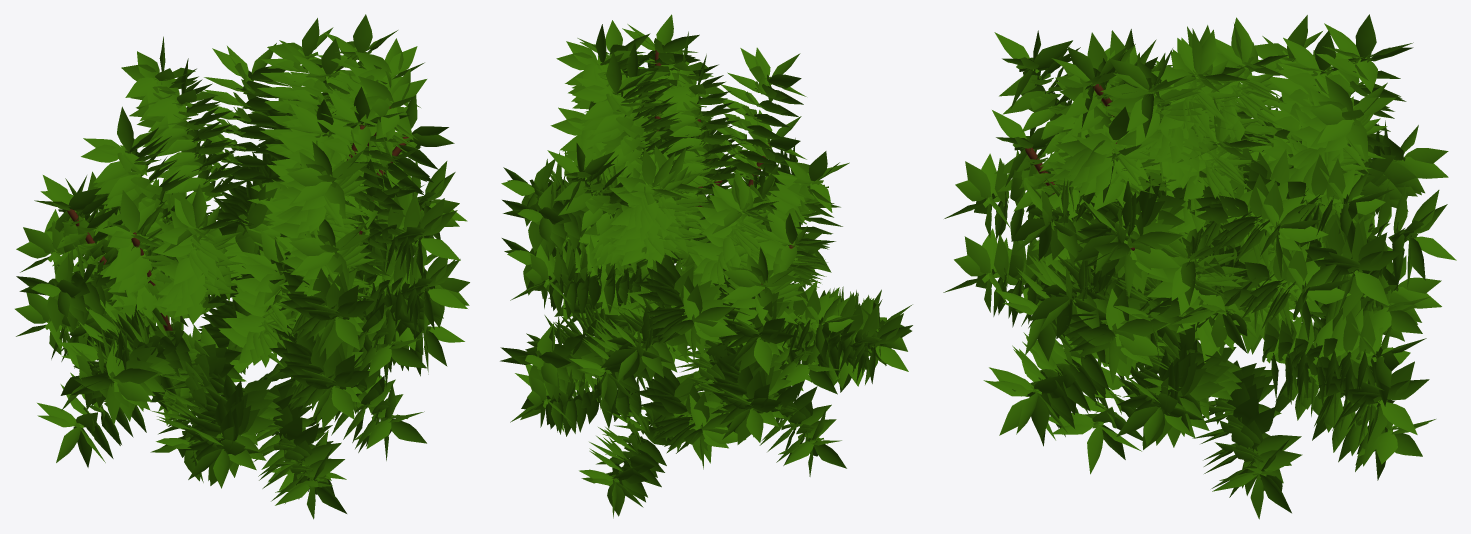
The model's file is leaf test.fbx.
3 views of the same model, side by side, from view 1: azimuth 30°, elevation 25°; view 2: azimuth 150°, elevation 25°; view 3: azimuth 270°, elevation 25° (orthographic). The views are drawn at different scales.
Parts seen in each view (by area): view 1: polySurface2065; view 2: polySurface2065; view 3: polySurface2065.
Part boxes in pixels (<box>): polySurface2065: <box>15,14,469,519</box>; polySurface2065: <box>500,14,912,518</box>; polySurface2065: <box>943,14,1456,519</box>.
Bounding box in the file's own units: 3.22 × 3.48 × 3.19.
